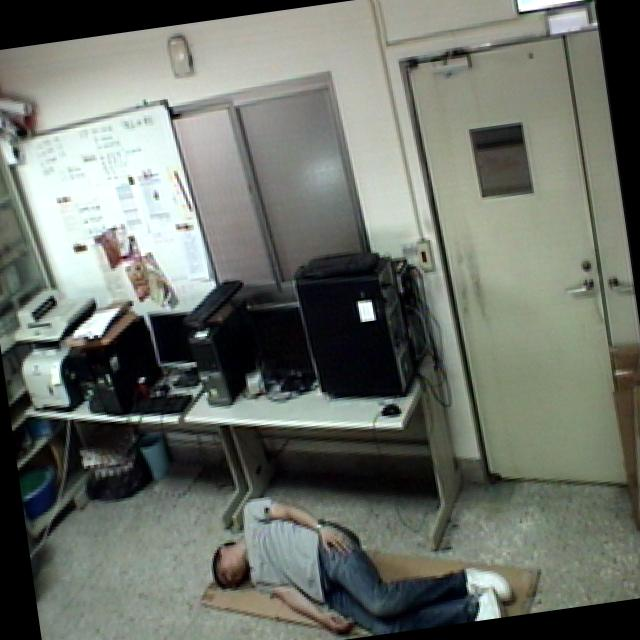lie: (198, 456, 523, 640)
